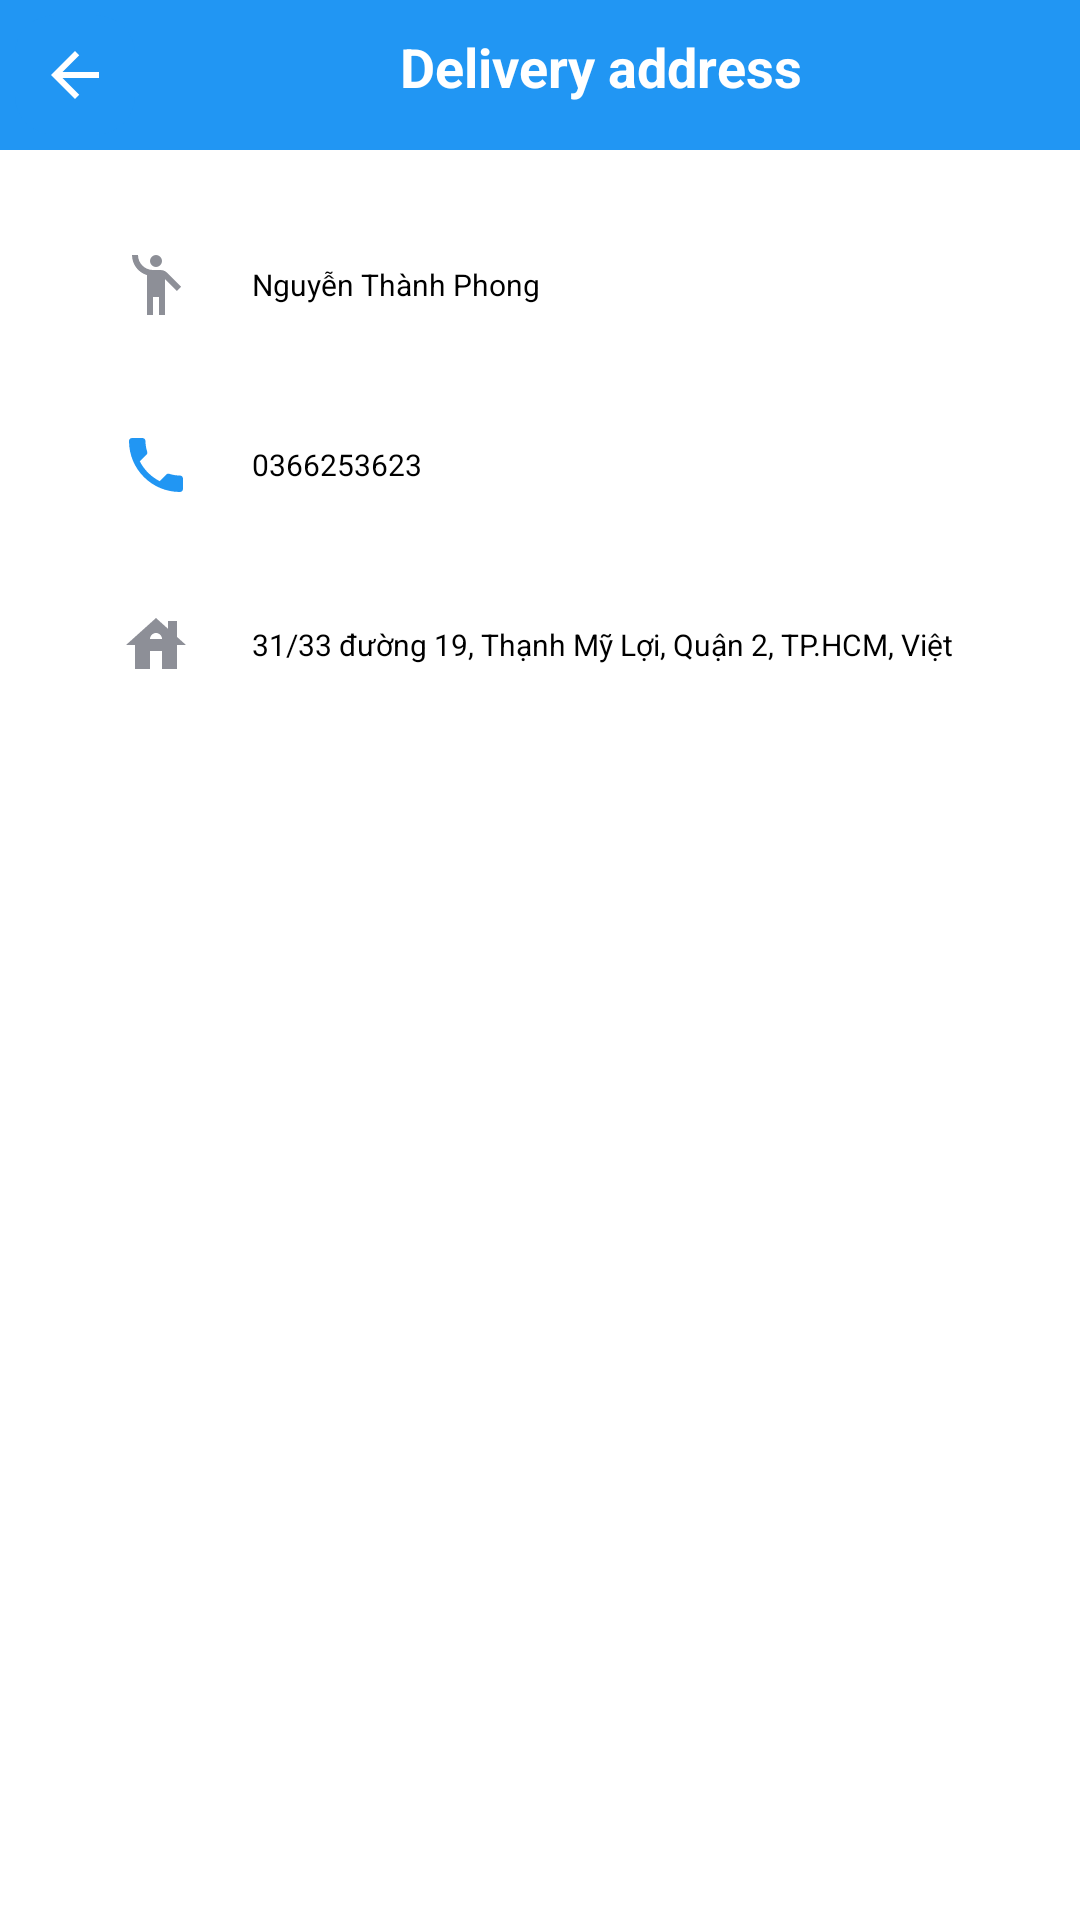

Where to tap for icons on this 1080 x 1920 app screen, as (x=x, y=y):
arrow back: (x=75, y=75)
